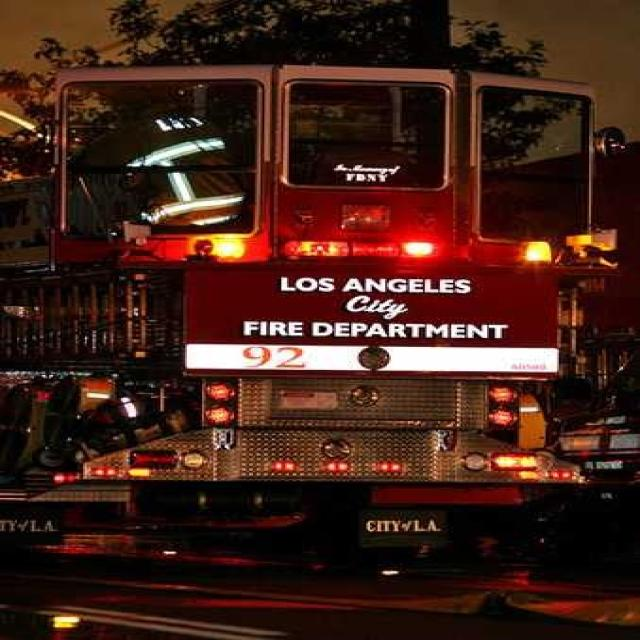ambulance: (76, 41, 640, 496)
